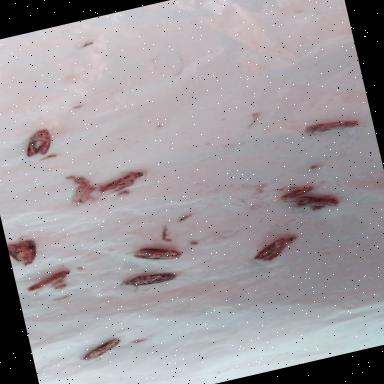pbw: (119, 267, 183, 293), (97, 168, 152, 198), (302, 114, 362, 139), (292, 188, 340, 218), (134, 240, 183, 268), (254, 236, 302, 264), (26, 270, 74, 293), (22, 130, 58, 160), (8, 239, 42, 270), (86, 338, 126, 360)
